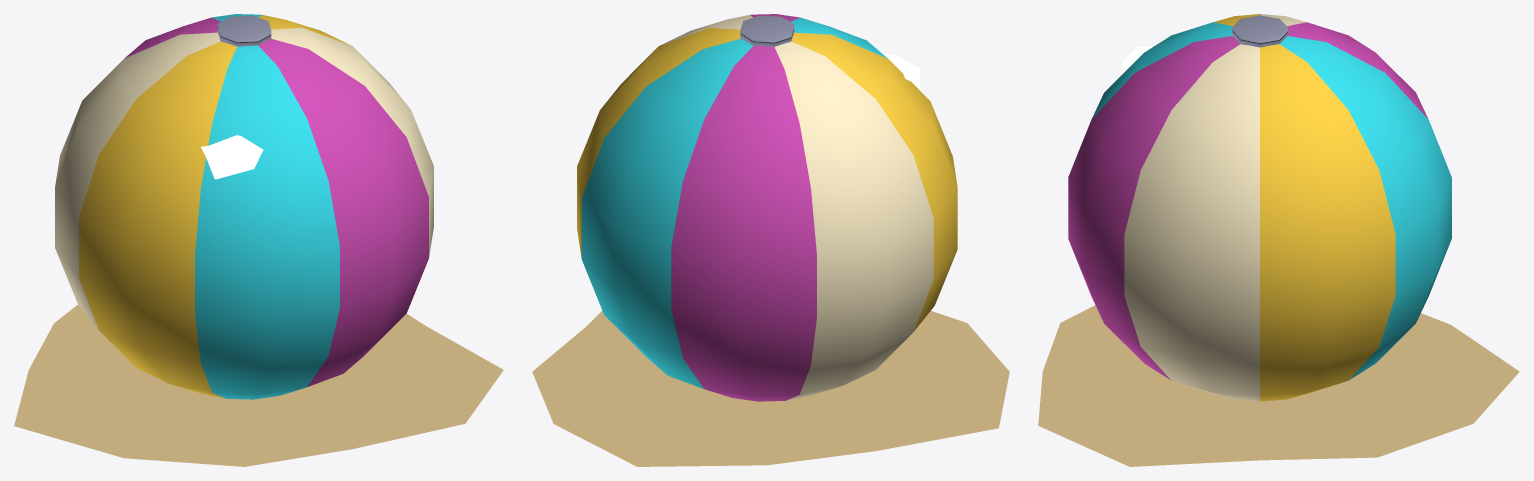
File: beach_ball.glb
3 renders of one model, left to right at view 1: azimuth 30°, elevation 25°; view 2: azimuth 150°, elevation 25°; view 3: azimuth 270°, elevation 25°, orthographic.
Parts seen in each view (by area): view 1: Ball; view 2: Ball; view 3: Ball.
Part boxes in pixels (x1,y1,x2,y2): Ball: (14,14,503,466); Ball: (532,14,1009,466); Ball: (1038,14,1519,466).
Bounding box in the file's own units: 0.6196 × 0.496 × 0.6056.
